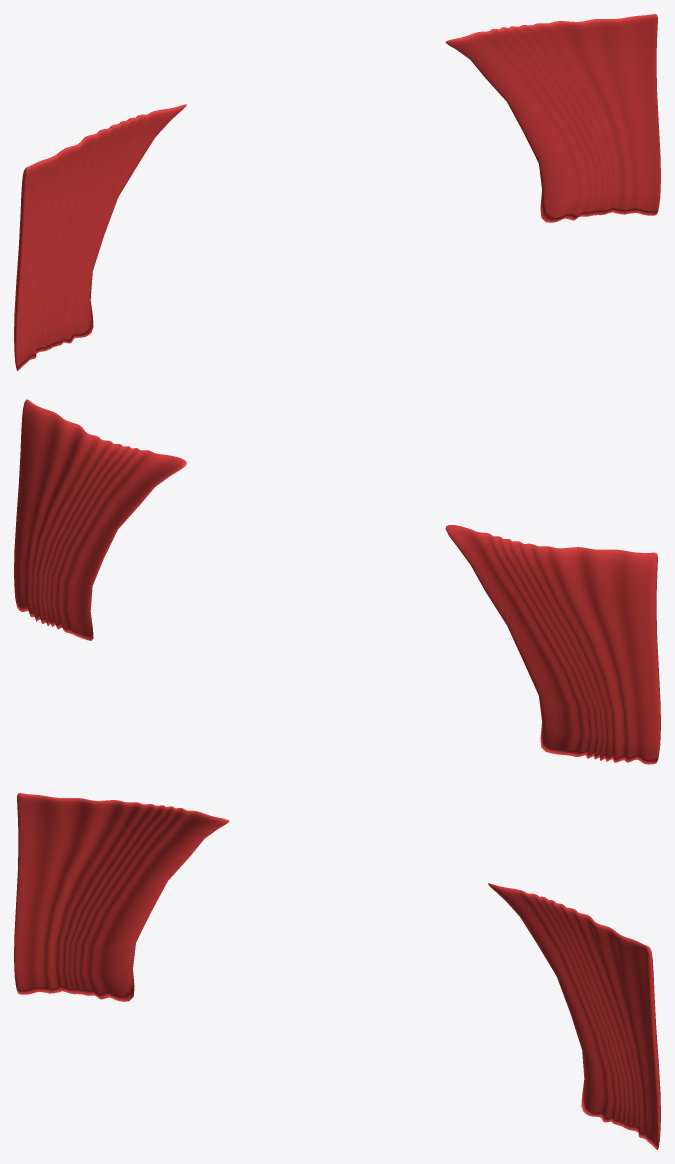
File: FightStage 1.fbx
3 renders of one model, top to bottom at view 1: azimuth 30°, elevation 25°; view 2: azimuth 150°, elevation 25°; view 3: azimuth 330°, elevation 25°, orthographic.
Parts seen in each view (by area): view 1: Plane.018; view 2: Plane.018; view 3: Plane.018.
Part boxes in pixels (<box>): Plane.018: <box>14,14,660,370</box>; Plane.018: <box>14,399,660,764</box>; Plane.018: <box>14,793,660,1149</box>.
Size of the model in its own units: 1194 by 368 by 99.45.
